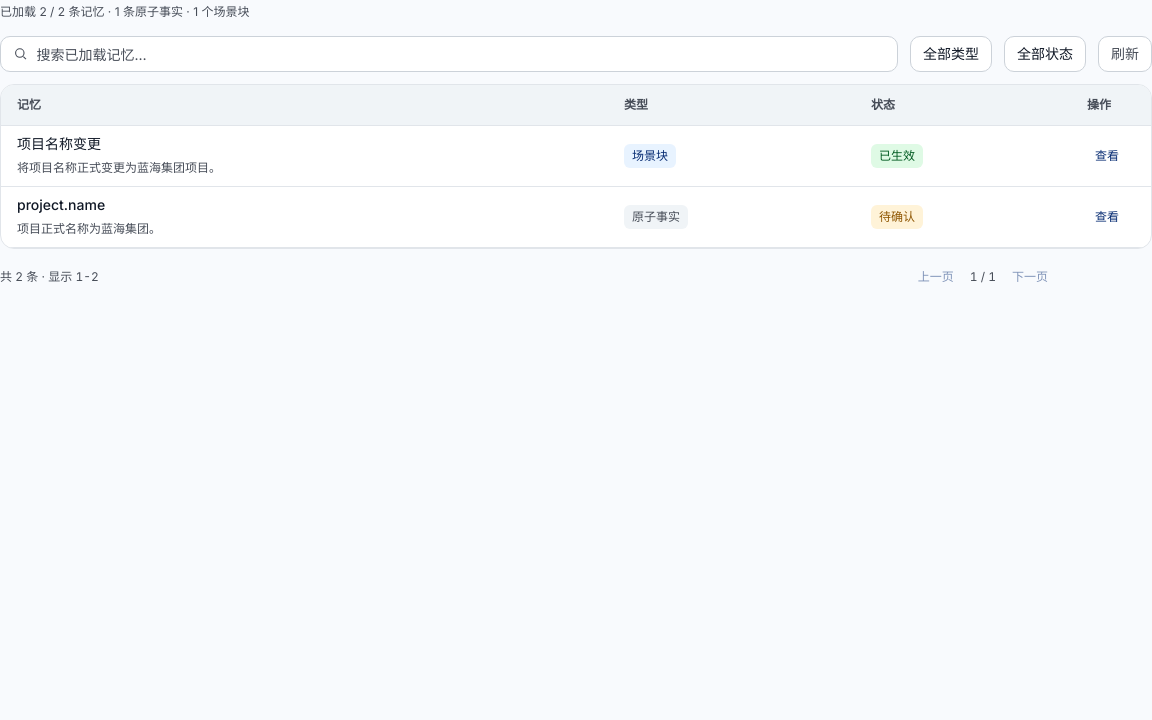
Scenario: 记忆管理统一列表与详情 › 操作失败保留目标和错误，可重试且不误报成功
Expected: the table is shown, [1,85,1151,248]
Click the button "查看" in the row of "project.name".
click(1107, 216)  # box [1087,200,1127,232]
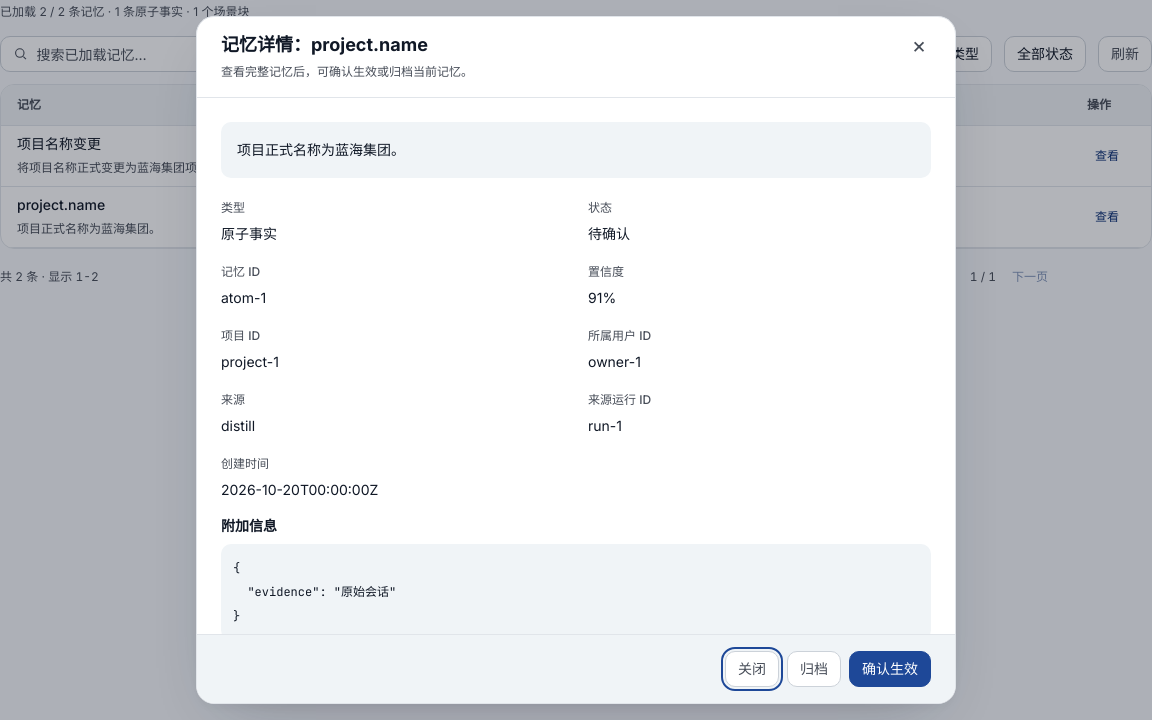
Click the button "确认生效".
click(890, 669)  # box [849,651,931,687]
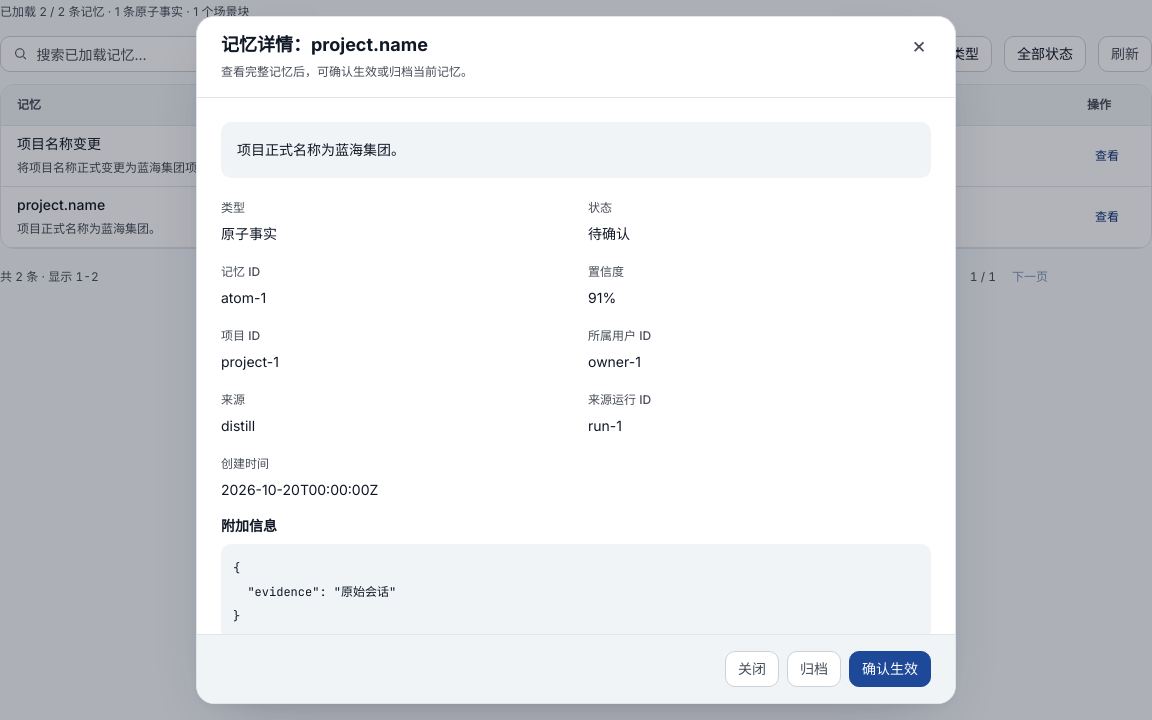
Expected: the text "项目正式名称为蓝海集团。" is shown, [221,122,931,178]
Click the button "确认生效".
click(890, 669)  # box [849,651,931,687]
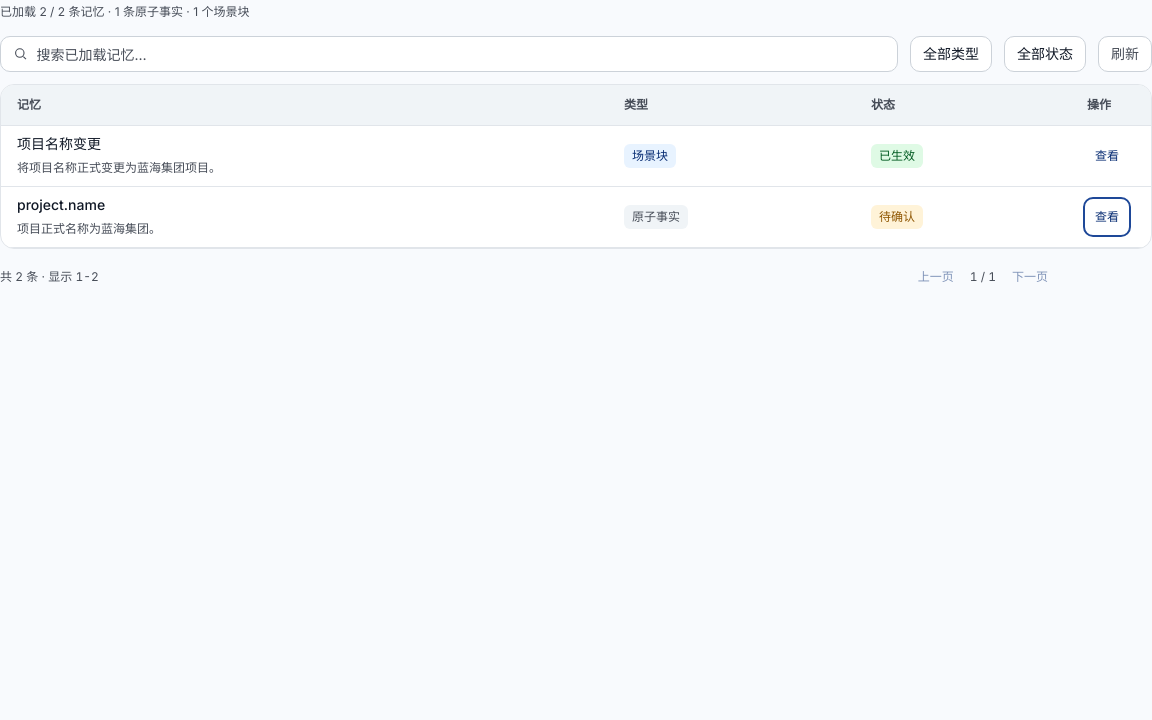
Expected: the dialog is gone
